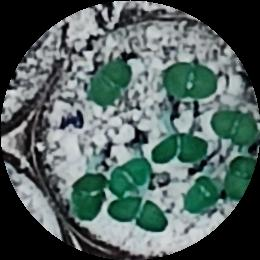Basil: (164, 61, 216, 101), (109, 198, 170, 232), (215, 109, 260, 146), (93, 61, 130, 105), (153, 135, 204, 165), (73, 173, 103, 221), (110, 156, 148, 193), (185, 175, 220, 212), (227, 157, 255, 198)
